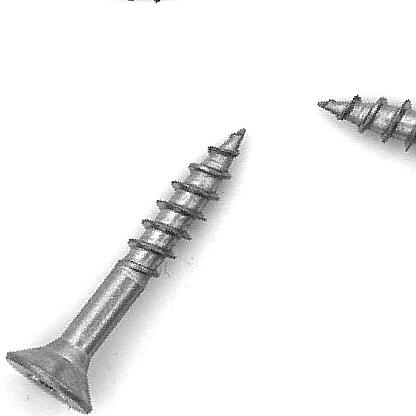metal: (5, 124, 248, 415)
